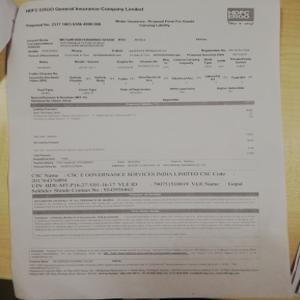image: (227, 7, 255, 22)
table: (29, 100, 257, 159), (29, 47, 258, 100)
text: (32, 170, 244, 192), (24, 5, 144, 14), (24, 19, 104, 29)
